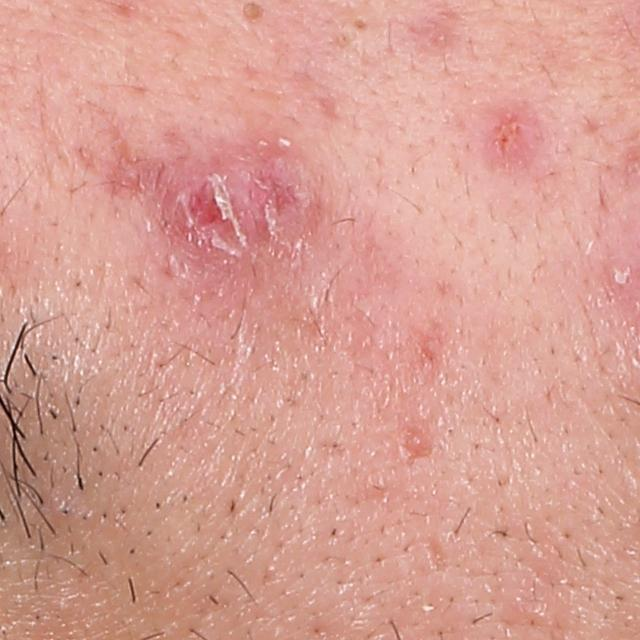atrophic_scar: (103, 130, 154, 203), (424, 531, 450, 576)
comedo: (350, 14, 369, 33)
papule: (175, 150, 332, 278), (472, 107, 540, 167)
pustule: (603, 263, 638, 291)
